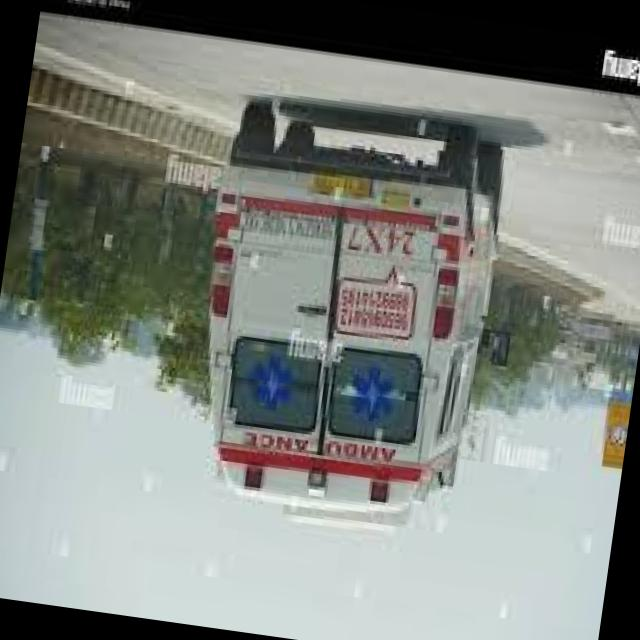ambulance: (157, 107, 518, 548)
